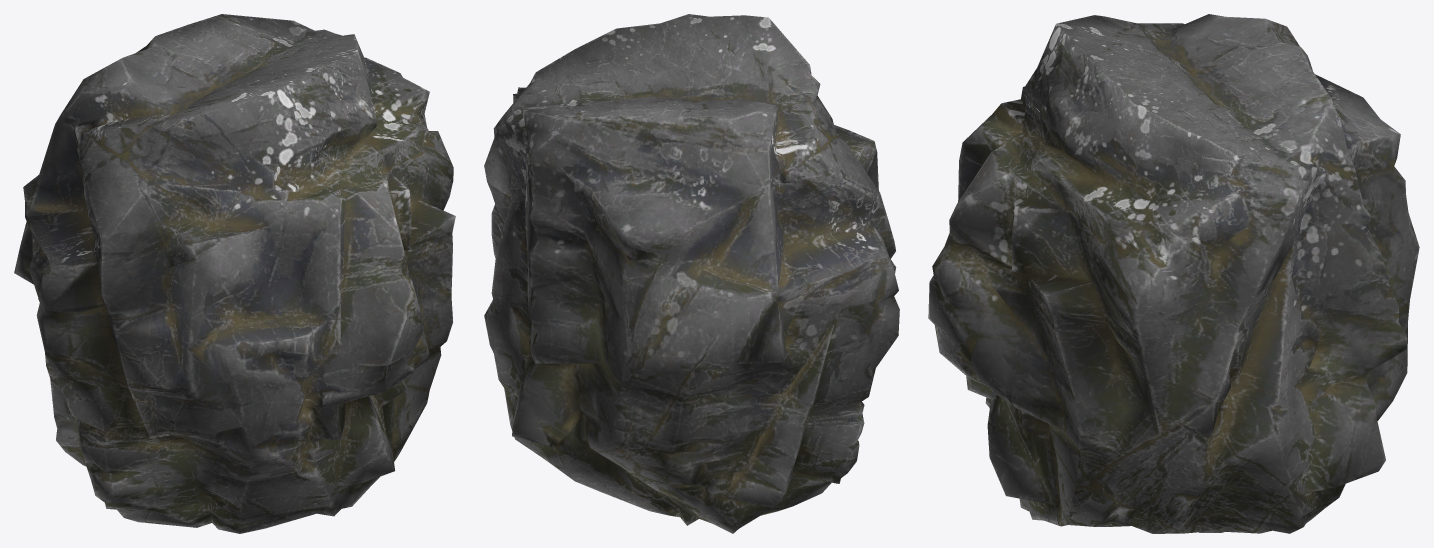
Rendered from SM_Rock01.FBX.
3 views of the same model, side by side, from view 1: azimuth 30°, elevation 25°; view 2: azimuth 150°, elevation 25°; view 3: azimuth 270°, elevation 25° (orthographic). The views are drawn at different scales.
Visible parts, largest first — view 1: SM_Rock01; view 2: SM_Rock01; view 3: SM_Rock01.
Boxes of the visible parts, box(x1,y1,x2,y2) form: SM_Rock01: box(14, 14, 455, 533); SM_Rock01: box(484, 14, 899, 533); SM_Rock01: box(928, 14, 1419, 533).
Size of the model in its own units: 233 by 251 by 228.
